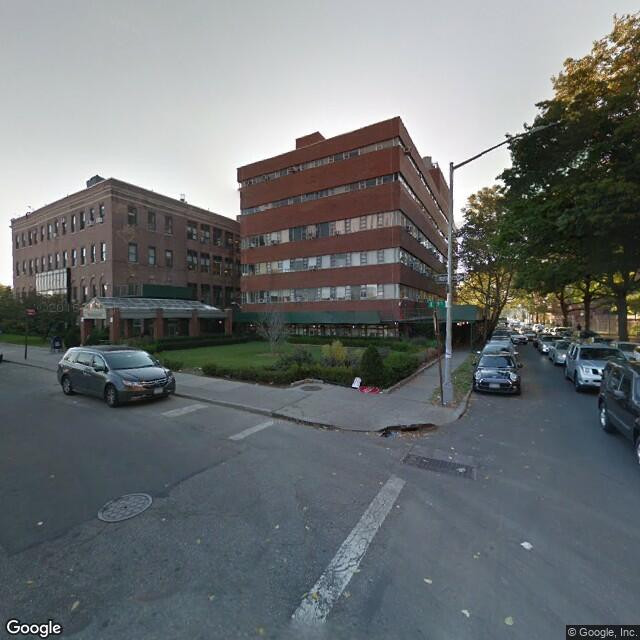litter: (520, 540, 534, 548), (455, 465, 466, 474), (462, 604, 470, 616), (421, 577, 433, 585), (36, 518, 42, 526), (423, 458, 430, 462), (436, 393, 441, 397)
